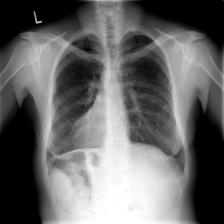normal: (39, 26, 190, 190)
